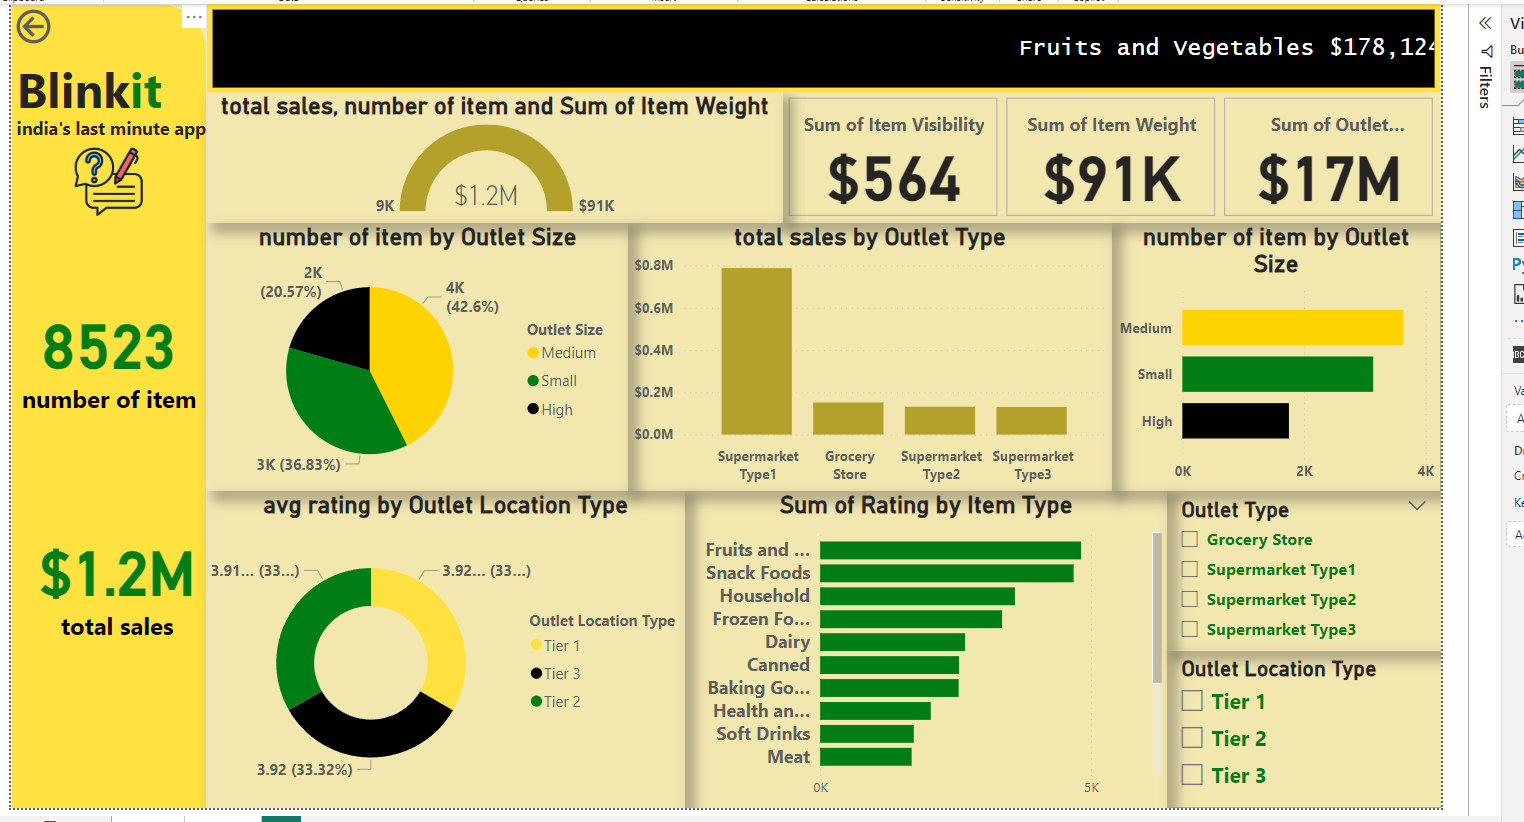

The dashboard page shown, as its layout file describes it:
{"tool":"powerbi","page":{"name":"visual1","canvas":[1280,720],"ordinal":1},"visuals":[{"type":"shape","box":[0,0,175.7,790.6],"z":0},{"type":"textbox","box":[0,41.8,226.1,74.9],"z":1000},{"type":"textbox","box":[0,95,188.6,33.1],"z":2000},{"type":"actionButton","box":[0,0,46.1,40.3],"z":3000},{"type":"cardVisual","fields":{"Data":["Sum(BlinkIT Grocery Data.Item Visibility)","Sum(BlinkIT Grocery Data.Item Weight)","Sum(BlinkIT Grocery Data.Outlet Establishment Year)"]},"box":[691.2,79.2,589,116.6],"z":4000},{"type":"gauge","fields":{"Y":["all mesurers.total sales"],"MinValue":["all mesurers.number of item"],"MaxValue":["Sum(BlinkIT Grocery Data.Item Weight)"]},"box":[175.7,79.2,515.5,116.6],"z":5000},{"type":"pieChart","fields":{"Y":["all mesurers.number of item"],"Category":["BlinkIT Grocery Data.Outlet Size"]},"box":[175.7,195.8,377.3,240.5],"z":6000},{"type":"donutChart","fields":{"Y":["all mesurers.avg rating"],"Category":["BlinkIT Grocery Data.Outlet Location Type"]},"box":[175.7,436.3,427.7,283.7],"z":7000},{"type":"clusteredBarChart","fields":{"Category":["BlinkIT Grocery Data.Outlet Size"],"Y":["all mesurers.number of item"]},"box":[986.4,195.8,293.8,240.5],"z":8000},{"type":"ScrollingTextVisual1448795304508","fields":{"Measure Absolute":["all mesurers.total sales"],"Measure Deviation":["all mesurers.number of item"],"Category":["BlinkIT Grocery Data.Item Type"]},"box":[175.7,0,1104.5,79.2],"z":9000},{"type":"lineClusteredColumnComboChart","fields":{"Y":["all mesurers.total sales"],"Category":["BlinkIT Grocery Data.Outlet Type"]},"box":[553,195.8,433.4,240.5],"z":10000},{"type":"barChart","fields":{"Category":["BlinkIT Grocery Data.Item Type"],"Y":["Sum(BlinkIT Grocery Data.Rating)"]},"box":[603.4,436.3,432,283.7],"z":11000},{"type":"slicer","fields":{"Values":["BlinkIT Grocery Data.Outlet Type"]},"box":[1035.4,436.3,244.8,142.6],"z":12000},{"type":"slicer","fields":{"Values":["BlinkIT Grocery Data.Outlet Location Type"]},"box":[1035.4,578.9,244.8,141.1],"z":13000},{"type":"card","fields":{"Values":["all mesurers.number of item"]},"box":[0,233.3,175.7,162.7],"z":14000},{"type":"card","fields":{"Values":["all mesurers.total sales"]},"box":[7.2,436.3,175.7,162.7],"z":15000},{"type":"image","box":[0,122.4,175.7,73.4],"z":16000}]}

Visuals, with their boxes on the page's 1280x720 design canvas (x1, y1, x2, y2). These are canvas units, not pixel positions in the 1524x822 screenshot, which may show the page scaled, cropped or inside an application window:
shape: left=0, top=0, right=176, bottom=791
textbox: left=0, top=42, right=226, bottom=117
textbox: left=0, top=95, right=189, bottom=128
actionButton: left=0, top=0, right=46, bottom=40
cardVisual - Sum(BlinkIT Grocery Data.Item Visibility) x Sum(BlinkIT Grocery Data.Item Weight): left=691, top=79, right=1280, bottom=196
gauge - all mesurers.total sales x all mesurers.number of item: left=176, top=79, right=691, bottom=196
pieChart - all mesurers.number of item x BlinkIT Grocery Data.Outlet Size: left=176, top=196, right=553, bottom=436
donutChart - all mesurers.avg rating x BlinkIT Grocery Data.Outlet Location Type: left=176, top=436, right=603, bottom=720
clusteredBarChart - BlinkIT Grocery Data.Outlet Size x all mesurers.number of item: left=986, top=196, right=1280, bottom=436
ScrollingTextVisual1448795304508 - all mesurers.total sales x all mesurers.number of item: left=176, top=0, right=1280, bottom=79
lineClusteredColumnComboChart - all mesurers.total sales x BlinkIT Grocery Data.Outlet Type: left=553, top=196, right=986, bottom=436
barChart - BlinkIT Grocery Data.Item Type x Sum(BlinkIT Grocery Data.Rating): left=603, top=436, right=1035, bottom=720
slicer - BlinkIT Grocery Data.Outlet Type: left=1035, top=436, right=1280, bottom=579
slicer - BlinkIT Grocery Data.Outlet Location Type: left=1035, top=579, right=1280, bottom=720
card - all mesurers.number of item: left=0, top=233, right=176, bottom=396
card - all mesurers.total sales: left=7, top=436, right=183, bottom=599
image: left=0, top=122, right=176, bottom=196
